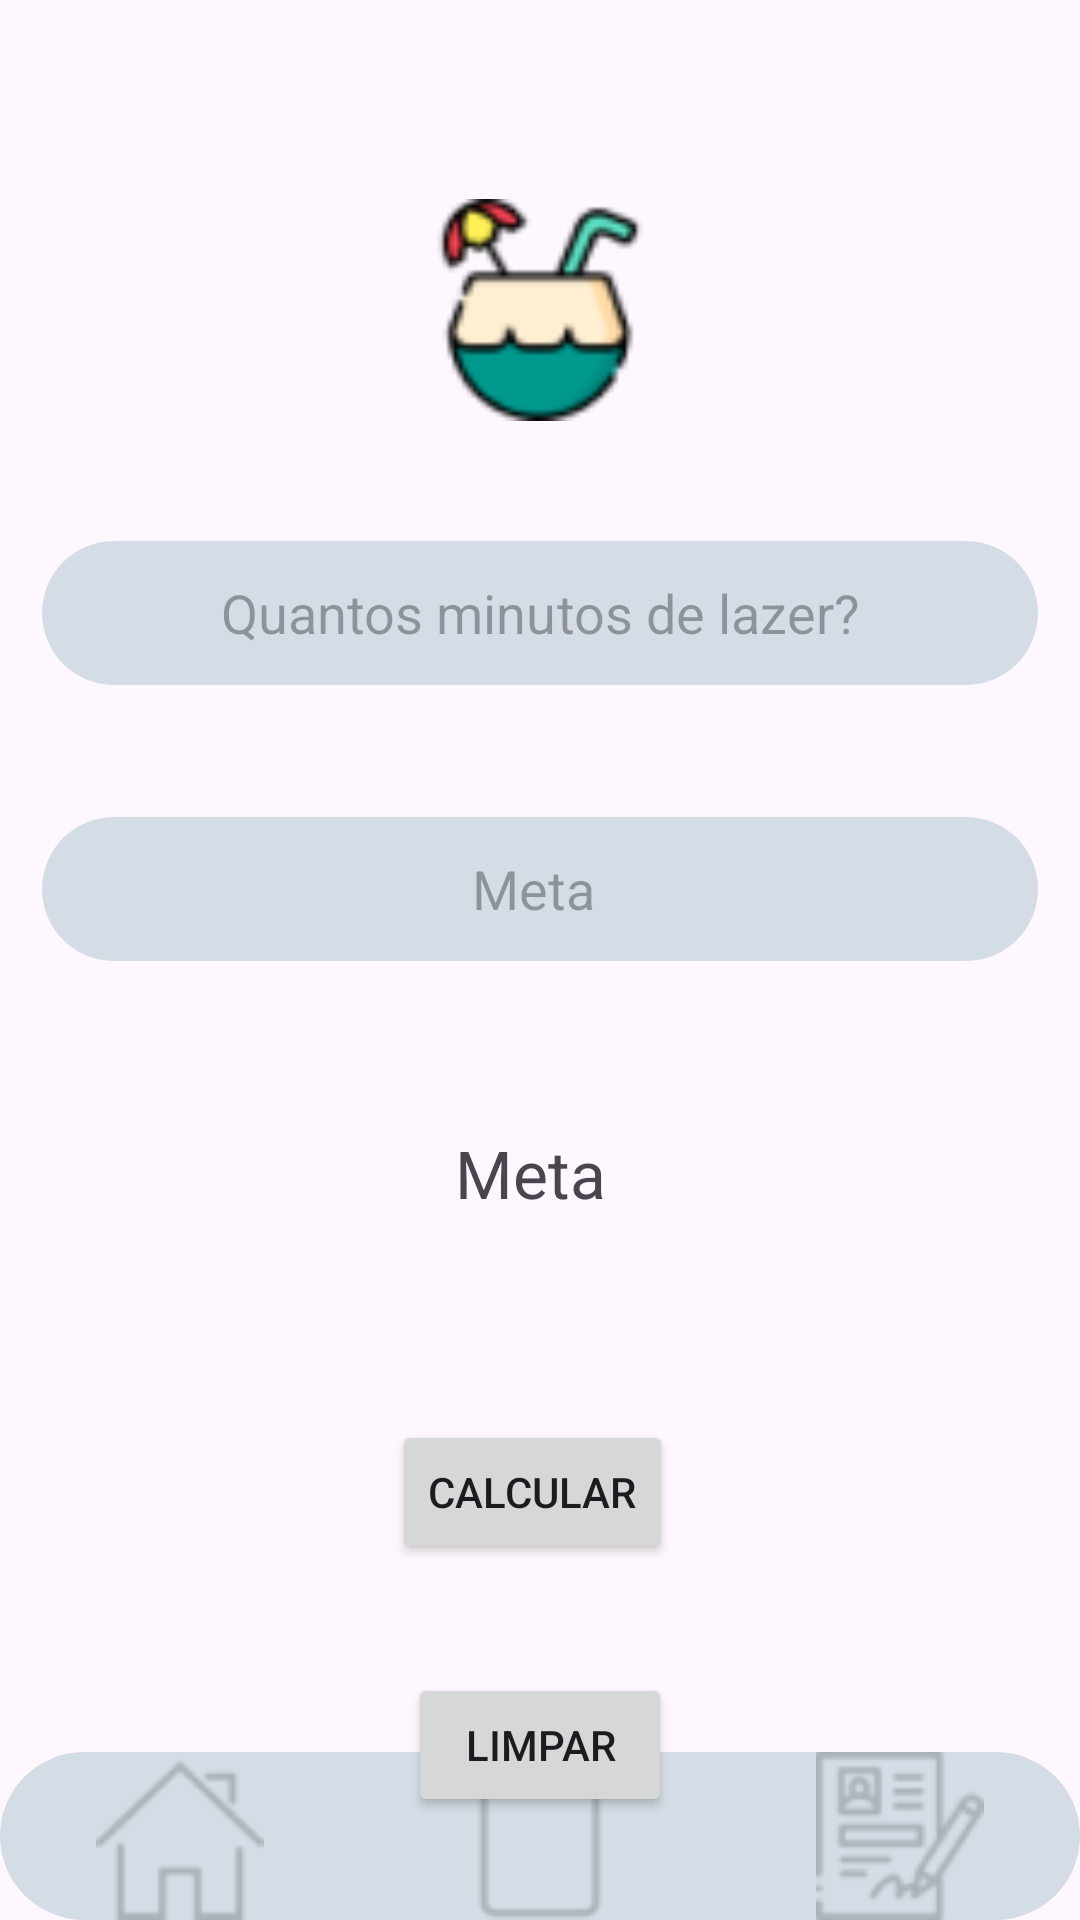

Icons on this 1080x1920 Android screen, each with the point to tap as point (x, y):
coconutdrink: point (540, 310)
Início: point (180, 1836)
Perfil: point (900, 1836)
